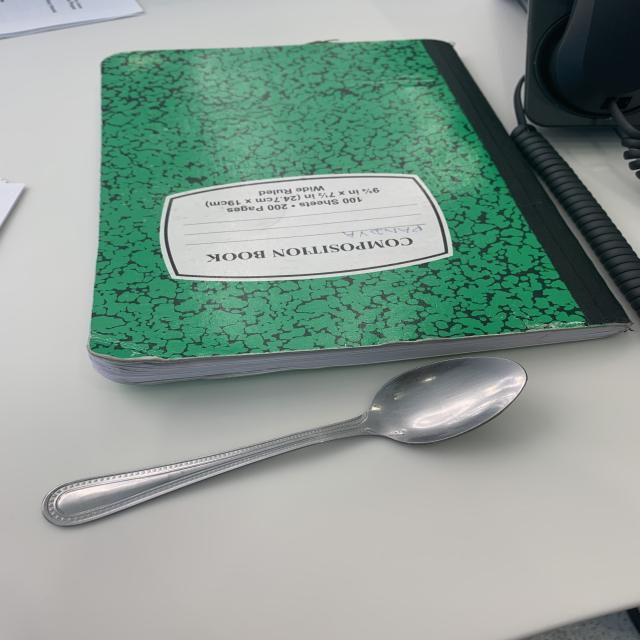Spoon: (30, 348, 533, 539)
